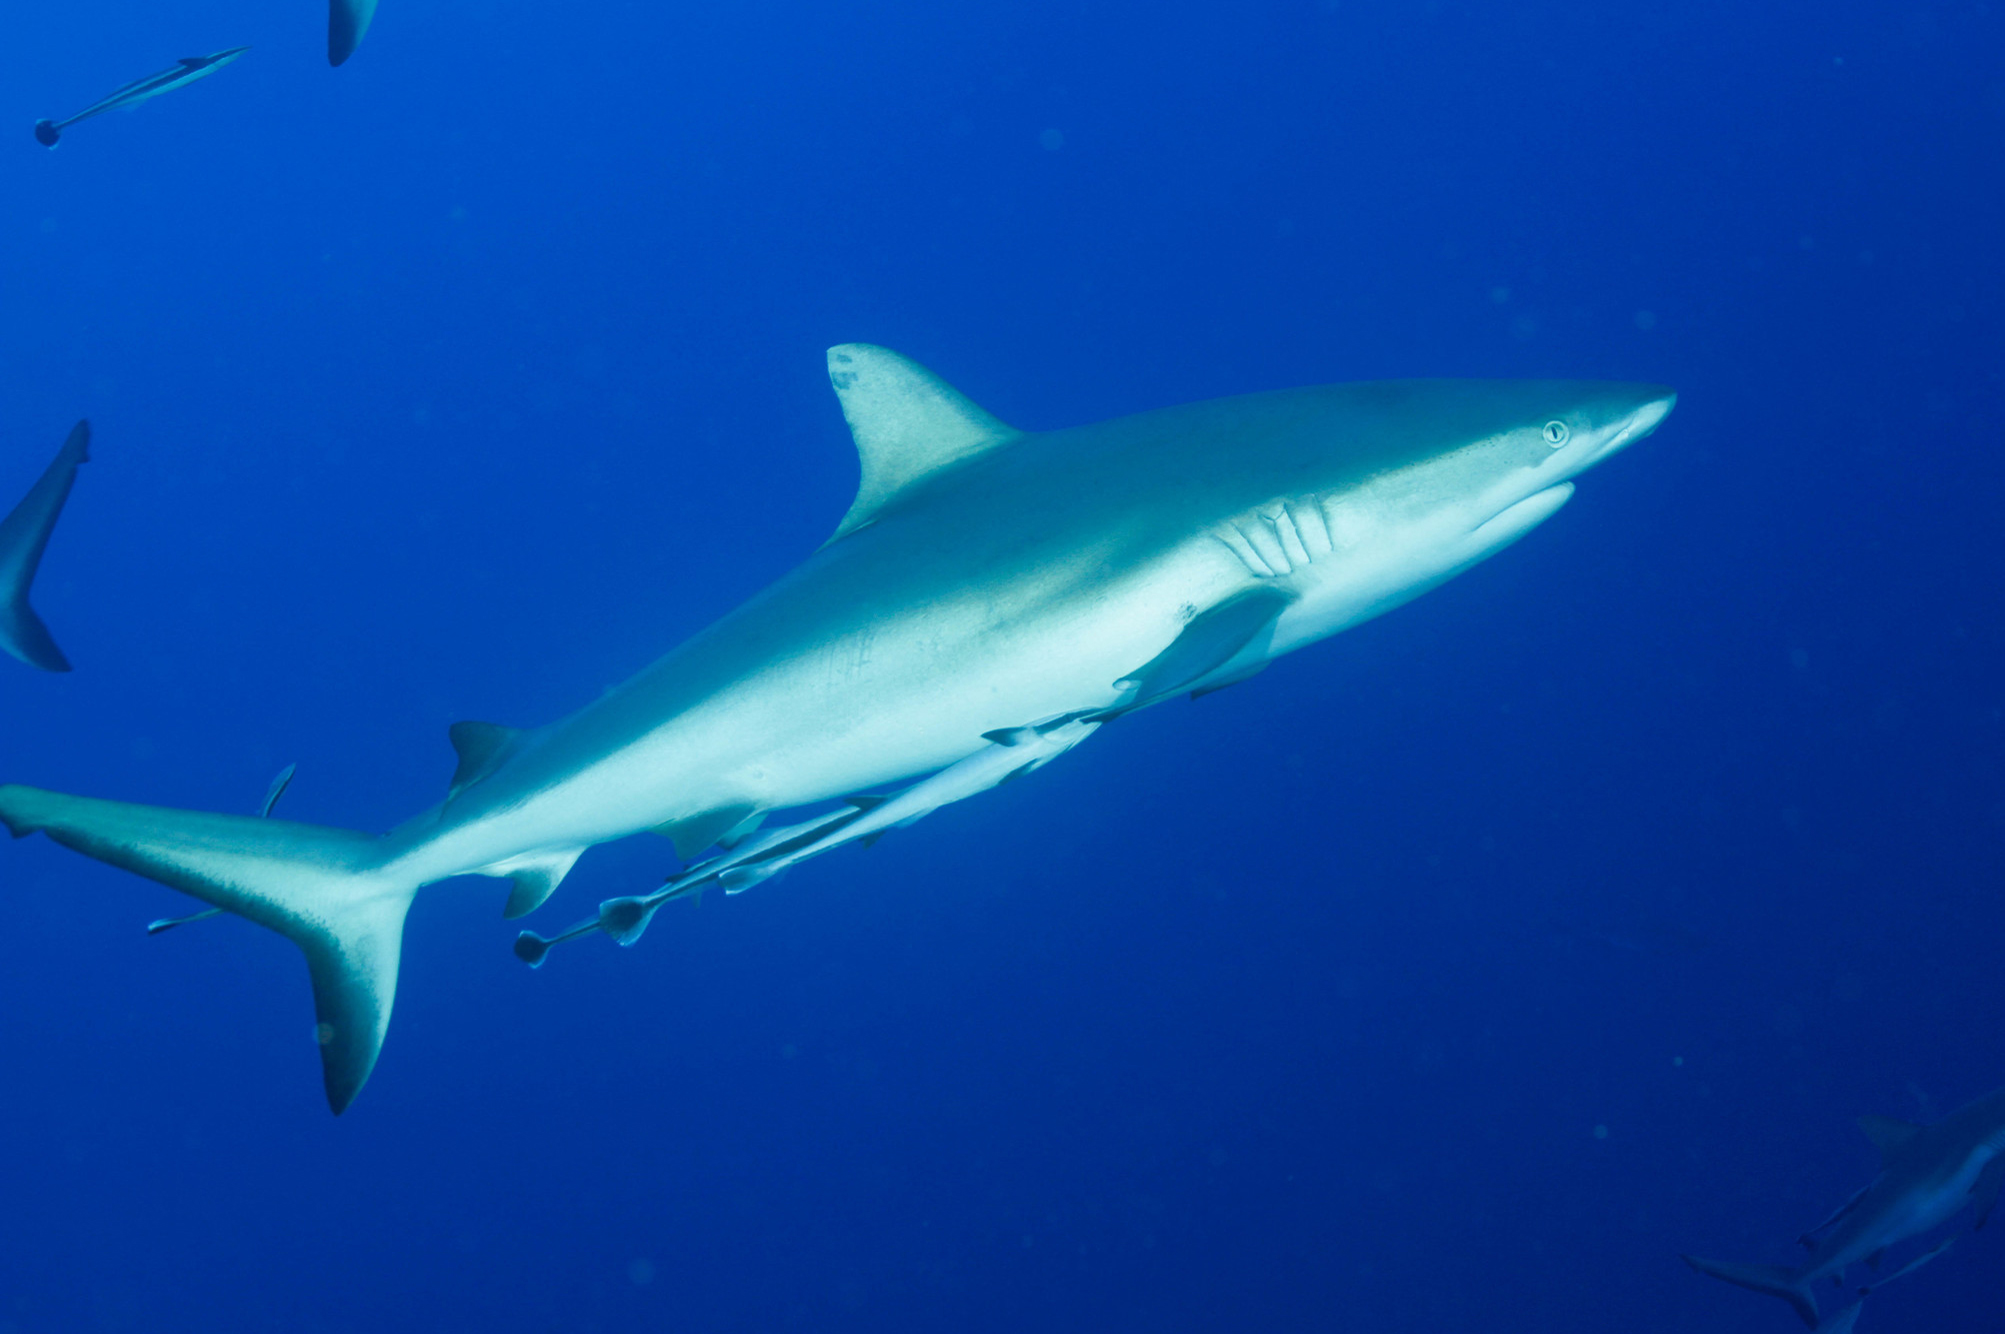Carcharhinus_amblyrhynchos: (1, 208, 1689, 1146)
